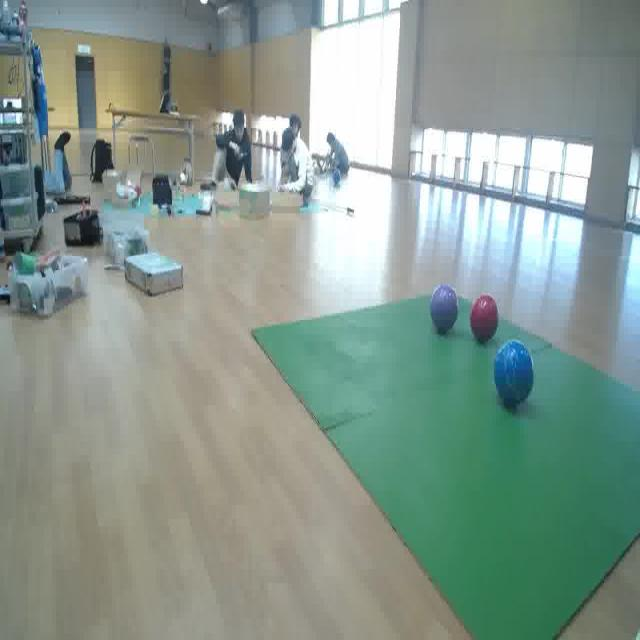blue_ball: (493, 339, 535, 414)
purple_ball: (432, 283, 459, 338)
red_ball: (472, 290, 499, 346)
